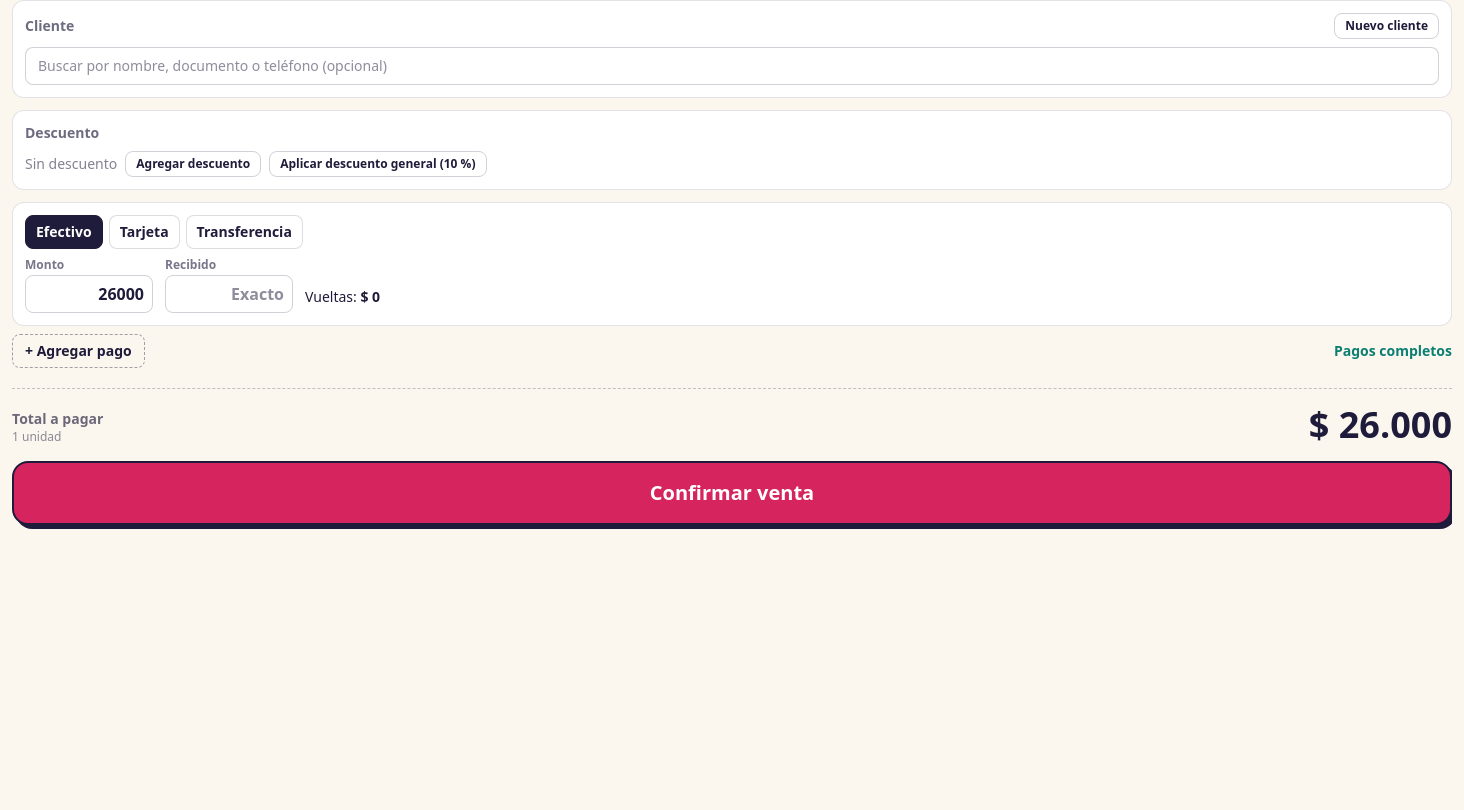
Test case: Confirmar una venta sin conexion (Fase 9) › si el servidor RECHAZA la venta (sin stock) no la guarda: muestra el motivo
Click the button "Confirmar venta": (732, 493) [12,461,1452,525]
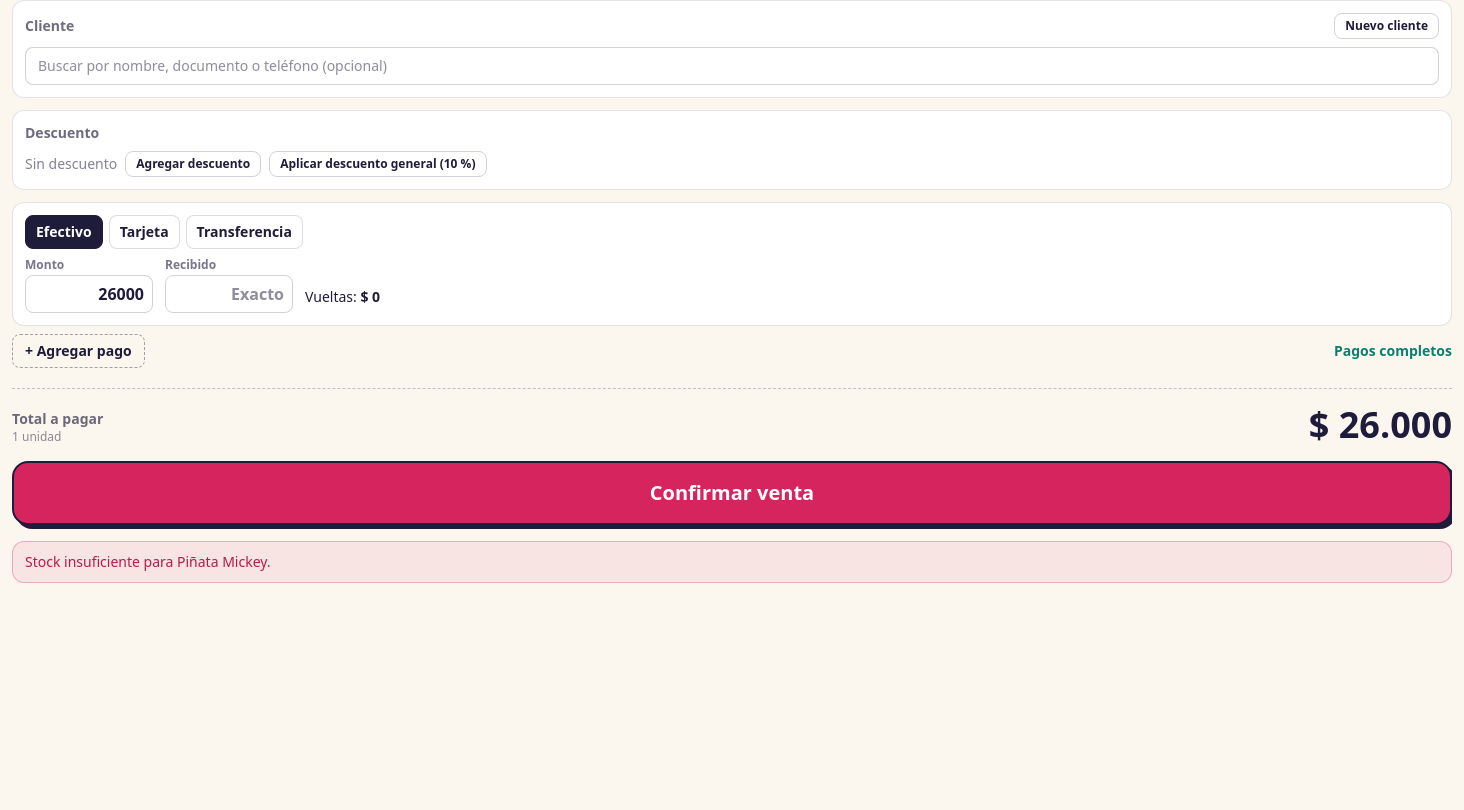
expect the text "Stock insuficiente para Piñata Mickey." is shown: met, box [12,541,1452,583]
